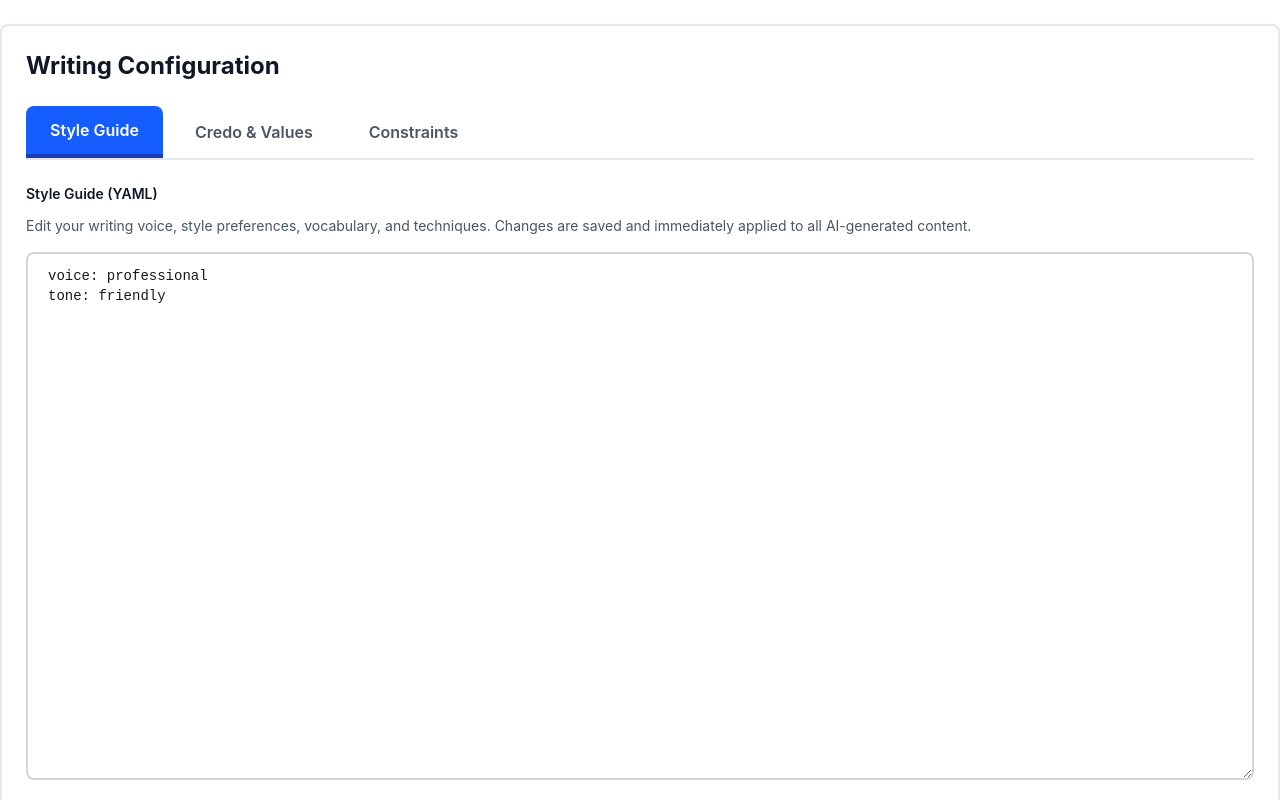
Test case: ConfigTab - Credo Editor › should display credo content when credo tab is selected
Note: Switch to credo tab
Click the button "Credo & Values" at point(254, 132), box top-left (171, 106), bottom-right (337, 158)
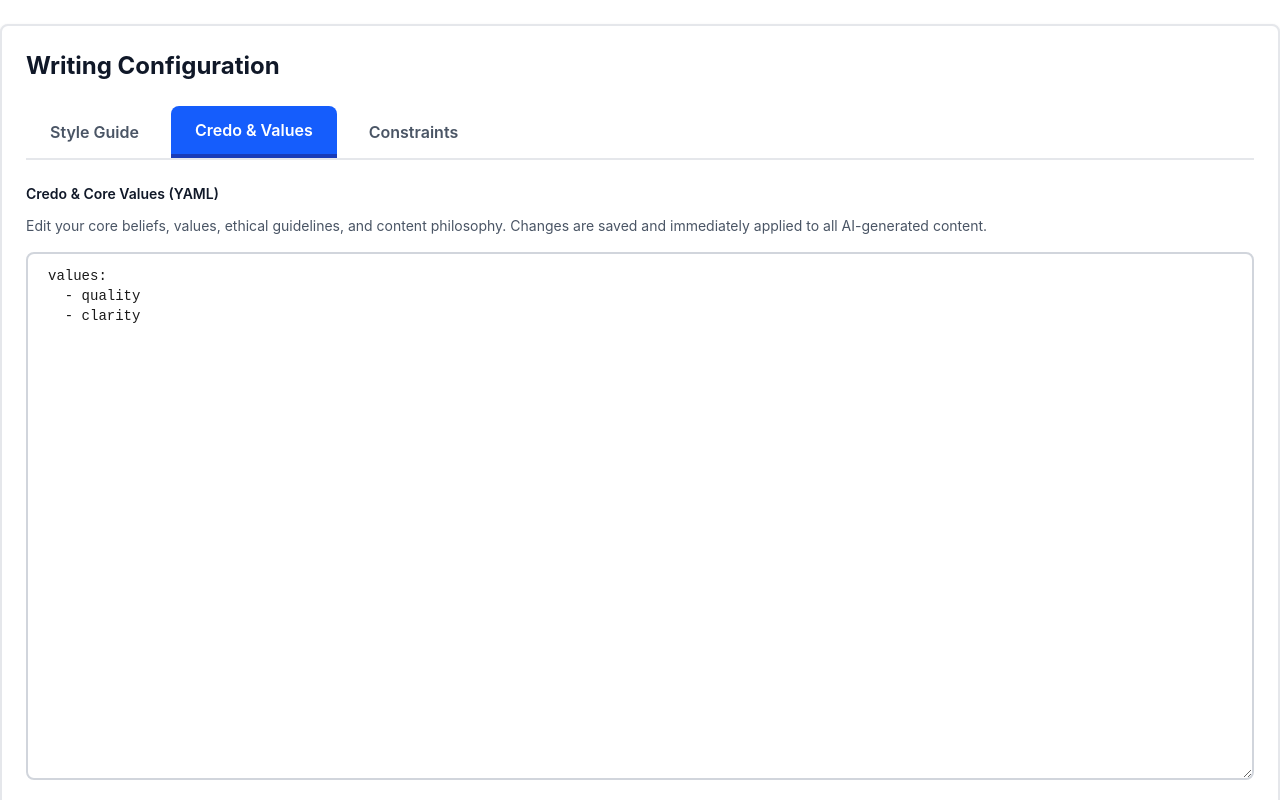
expect the text box showing "values:" is shown: met
